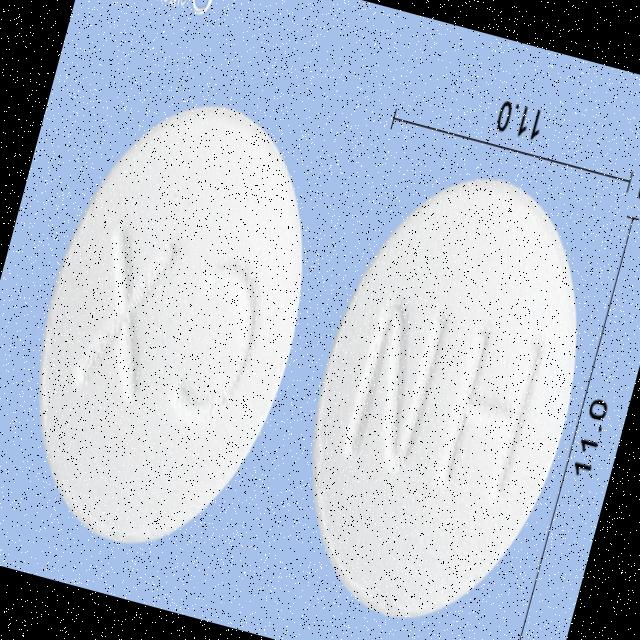Cipron: (0, 67, 352, 578), (263, 144, 625, 640)
